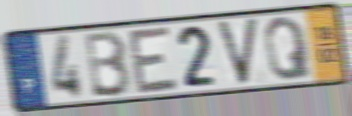2: (178, 23, 223, 91)
4: (49, 31, 85, 104)
B: (83, 28, 134, 99)
E: (126, 23, 182, 97)
Q: (262, 15, 315, 83)
V: (213, 15, 261, 89)
